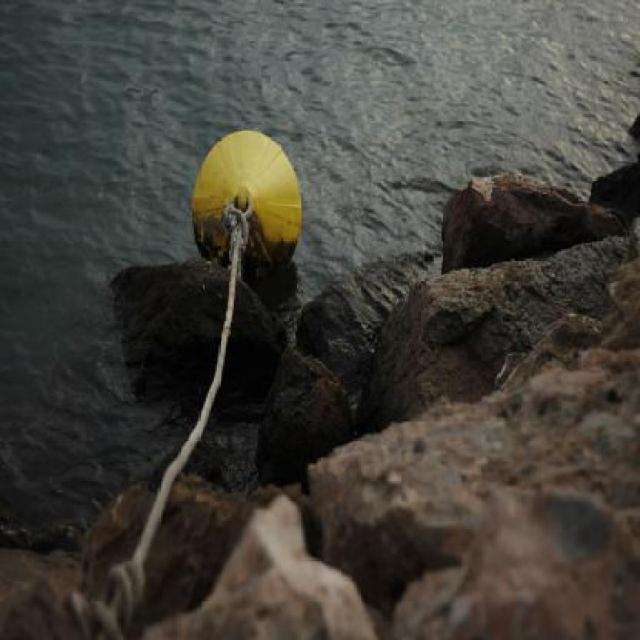a: (73, 119, 315, 640), (182, 114, 314, 303)
